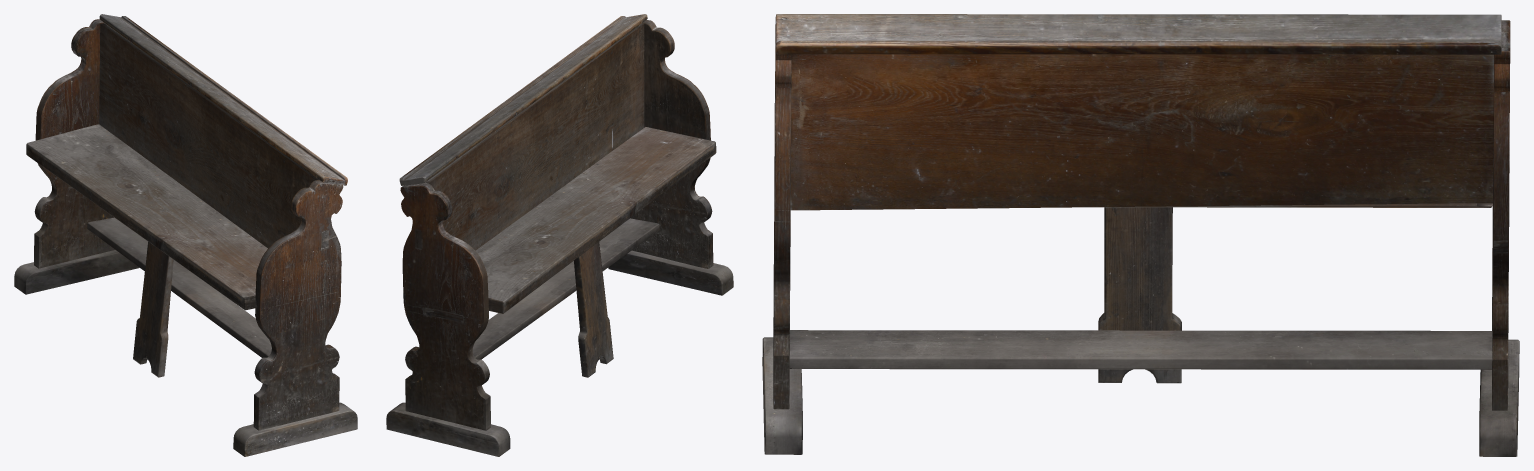
The model's file is sm_ChurchBench_01_01.fbx.
3 renders of one model, left to right at view 1: azimuth 30°, elevation 25°; view 2: azimuth 150°, elevation 25°; view 3: azimuth 270°, elevation 25°, orthographic. The views are drawn at different scales.
Parts seen in each view (by area): view 1: sm_ChurchBench_01_01_LOD0; view 2: sm_ChurchBench_01_01_LOD0; view 3: sm_ChurchBench_01_01_LOD0.
Boxes of the visible parts, x1,y1,x2,y2 form: sm_ChurchBench_01_01_LOD0: [14, 14, 357, 456]; sm_ChurchBench_01_01_LOD0: [386, 14, 733, 456]; sm_ChurchBench_01_01_LOD0: [762, 14, 1519, 456].
Bounding box in the file's own units: 52.56 × 183 × 111.
